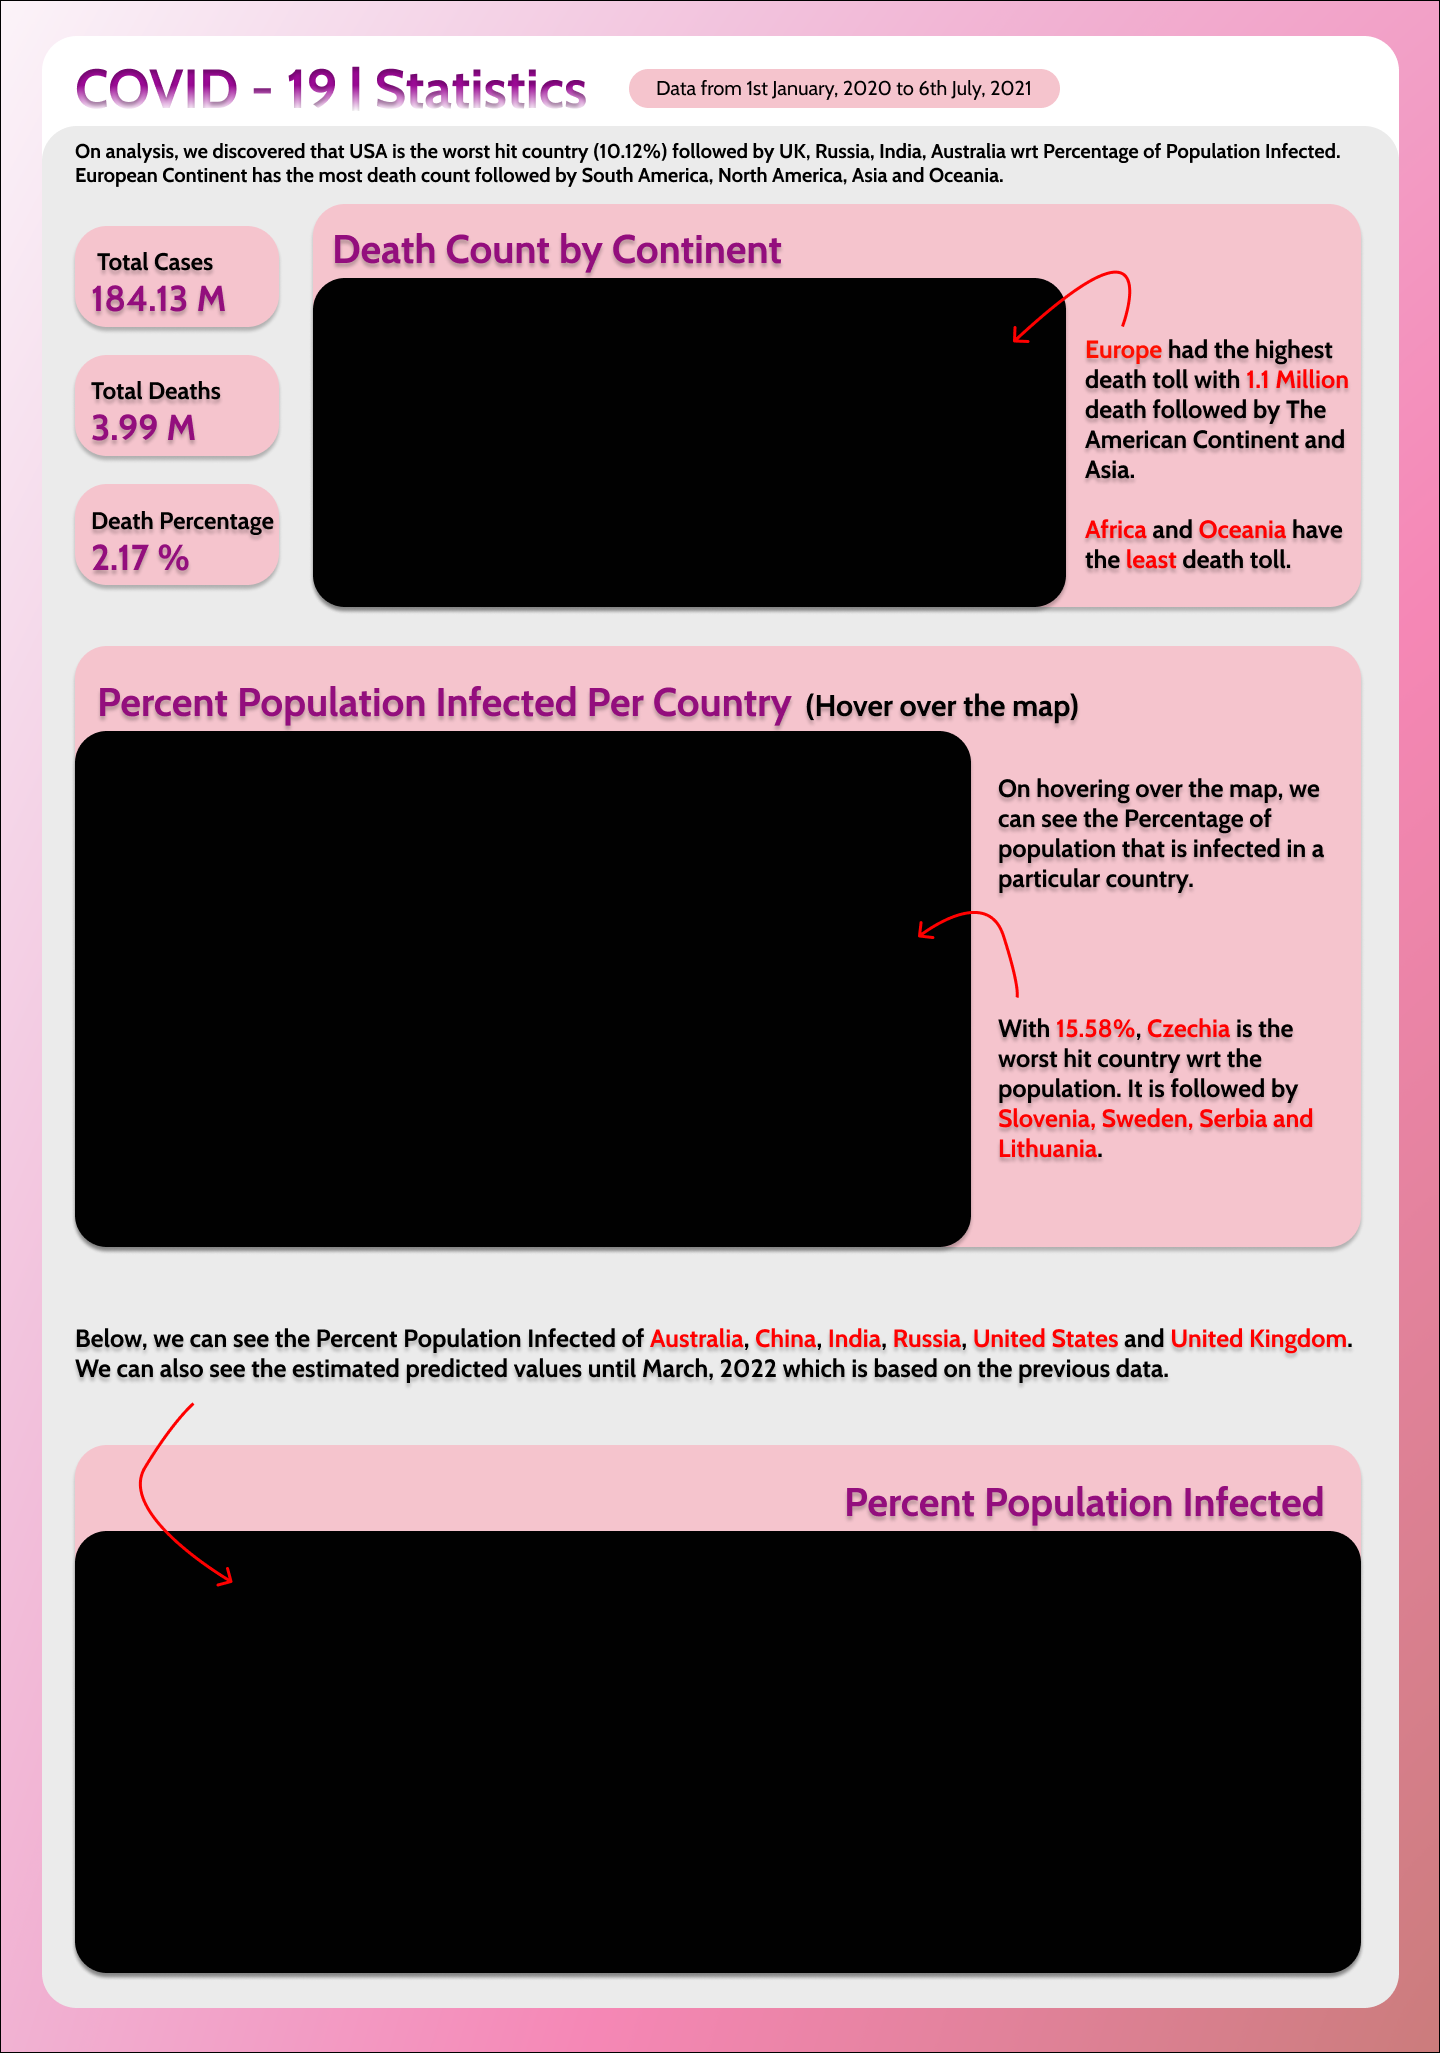

Layout of this report page (visuals, bound fields, positions):
{"tool":"tableau","page":{"name":"Dashboard 2","canvas":[1440,2053],"ordinal":1},"visuals":[{"type":"worksheet","title":"Sheet 2","mark":"Line","rows":["location"],"box":[322,307,698,276]},{"type":"worksheet","title":"Sheet 3","mark":"Automatic","box":[110,732,801,514]},{"type":"worksheet","title":"Sheet 4","mark":"Automatic","rows":["PercentPopulationInfected"],"cols":["date"],"box":[107,1607,998,358]},{"type":"legend","title":"Sheet 4","param":"[federated.1e98ksg0marzia1ch1tyg1c4gguv].[none:Location:nk]\n[federated.1e98ksg0m","box":[1140,1618,212,274]}]}

Visuals, with their boxes in screenshot pixels (x1, y1, x2, y2), scaled from the page's 1440x2053 canvas onto the 1440x2053 screenshot:
"Sheet 2" worksheet (Line marks): bbox(322, 307, 1020, 583)
"Sheet 3" worksheet: bbox(110, 732, 911, 1246)
"Sheet 4" worksheet: bbox(107, 1607, 1105, 1965)
"Sheet 4" legend: bbox(1140, 1618, 1352, 1892)
